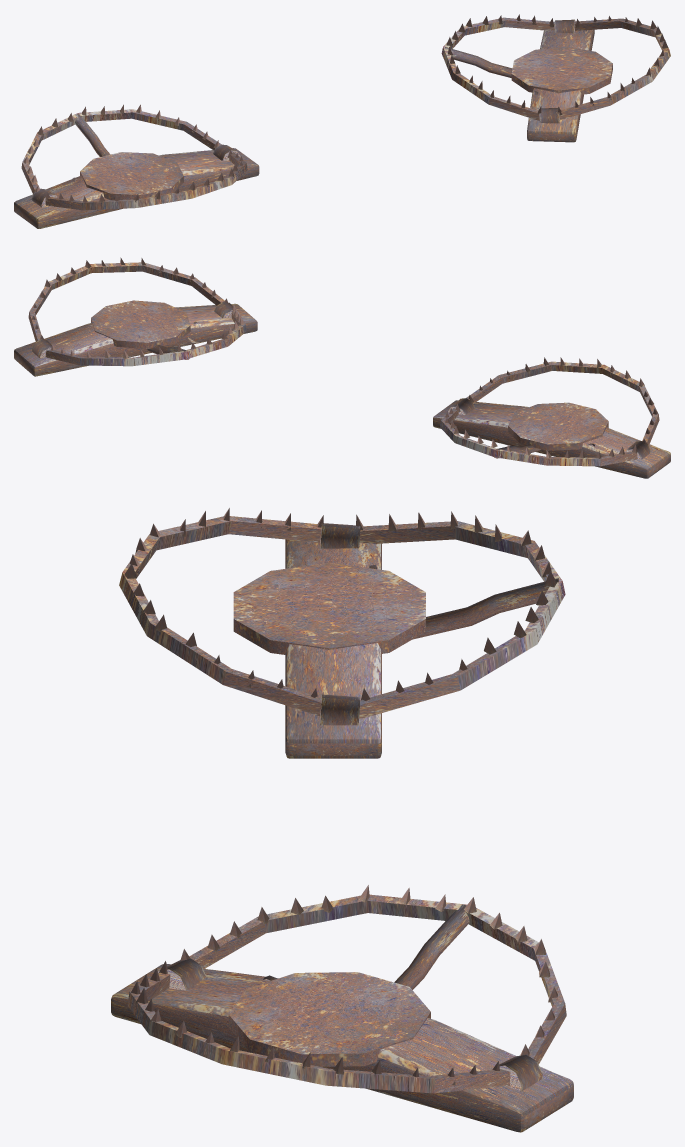
File: trap_wnyki_double.FBX
3 renders of one model, top to bottom at view 1: azimuth 30°, elevation 25°; view 2: azimuth 150°, elevation 25°; view 3: azimuth 270°, elevation 25°, orthographic. The views are drawn at different scales.
Parts seen in each view (by area): view 1: snares, snares001; view 2: snares001, snares; view 3: snares001, snares.
Part boxes in pixels (<box>): snares: <box>14,104,259,228</box>; snares001: <box>441,14,670,142</box>; snares001: <box>14,257,257,376</box>; snares: <box>433,357,670,478</box>; snares001: <box>111,885,573,1132</box>; snares: <box>119,508,565,758</box>.
Bounding box in the file's own units: 24.18 × 1.82 × 7.89.
1 material, 1 textured.
